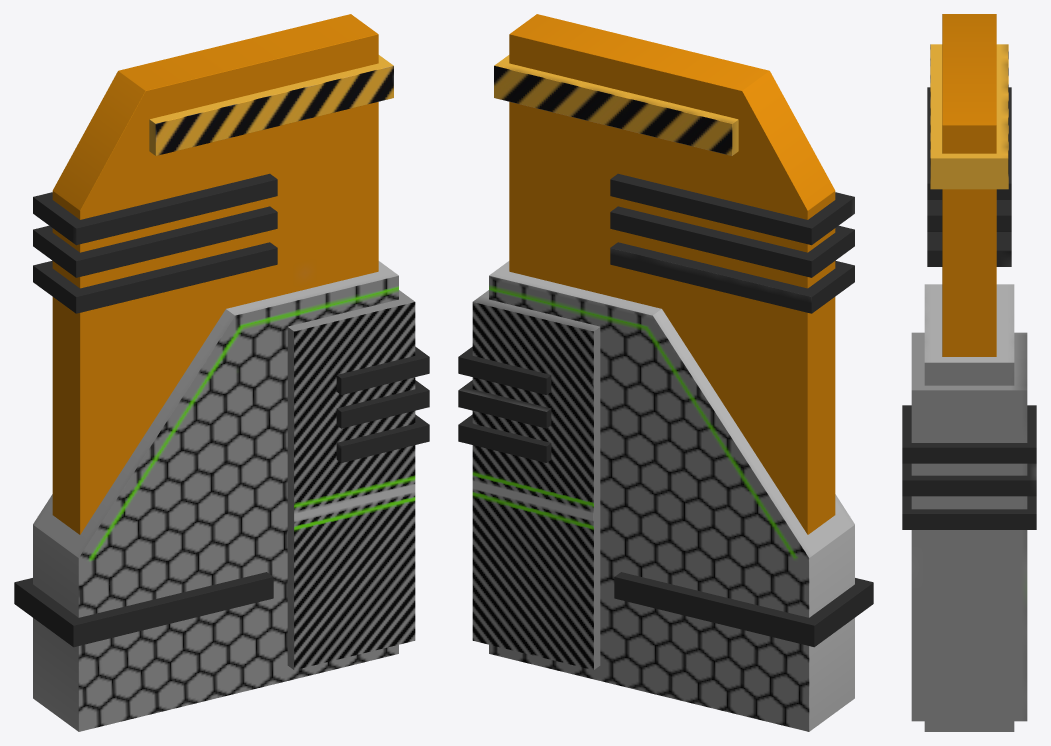
The model's file is SM_Construction_02.fbx.
The picture shows the model from 3 angles, left to right: view 1: azimuth 30°, elevation 25°; view 2: azimuth 150°, elevation 25°; view 3: azimuth 270°, elevation 25°; orthographic projection. The views are drawn at different scales.
Parts seen in each view (by area): view 1: SM_Construction_02; view 2: SM_Construction_02; view 3: SM_Construction_02.
Part boxes in pixels (x1,y1,x2,y2): SM_Construction_02: (14,14,429,731); SM_Construction_02: (458,14,873,731); SM_Construction_02: (902,14,1036,731).
Bounding box in the file's own units: 176 × 59.78 × 295.
Materials: 1 (1 with a texture image).
